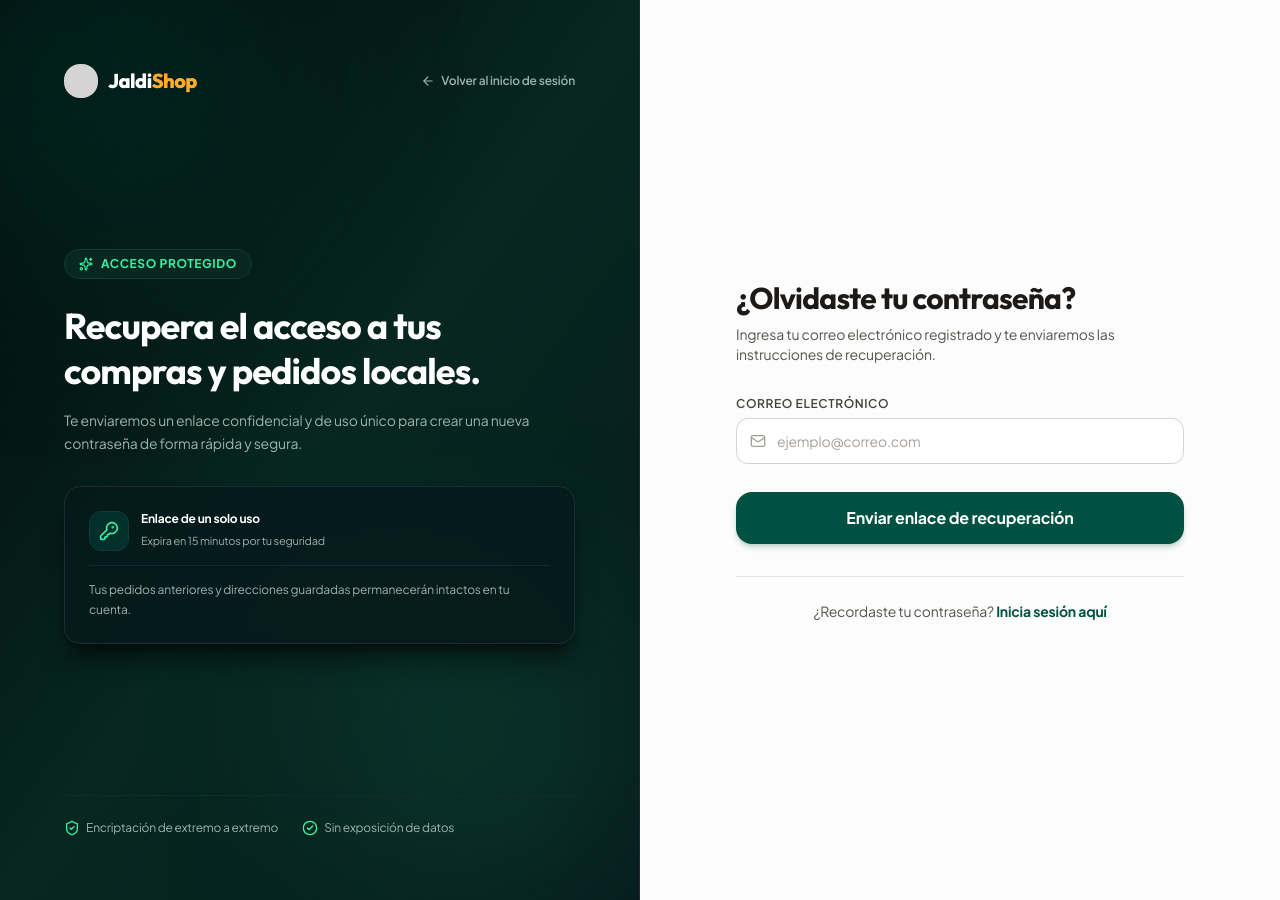
Scenario: ForgotPasswordForm Component › submits valid email, transitions to generic anti-enumeration success view
The width and height of the screenshot is (1280, 900).
Type "cliente@ejemplo.pe" into the field labelled "Correo electrónico". click: (960, 440)
box: [736,418,1184,464]
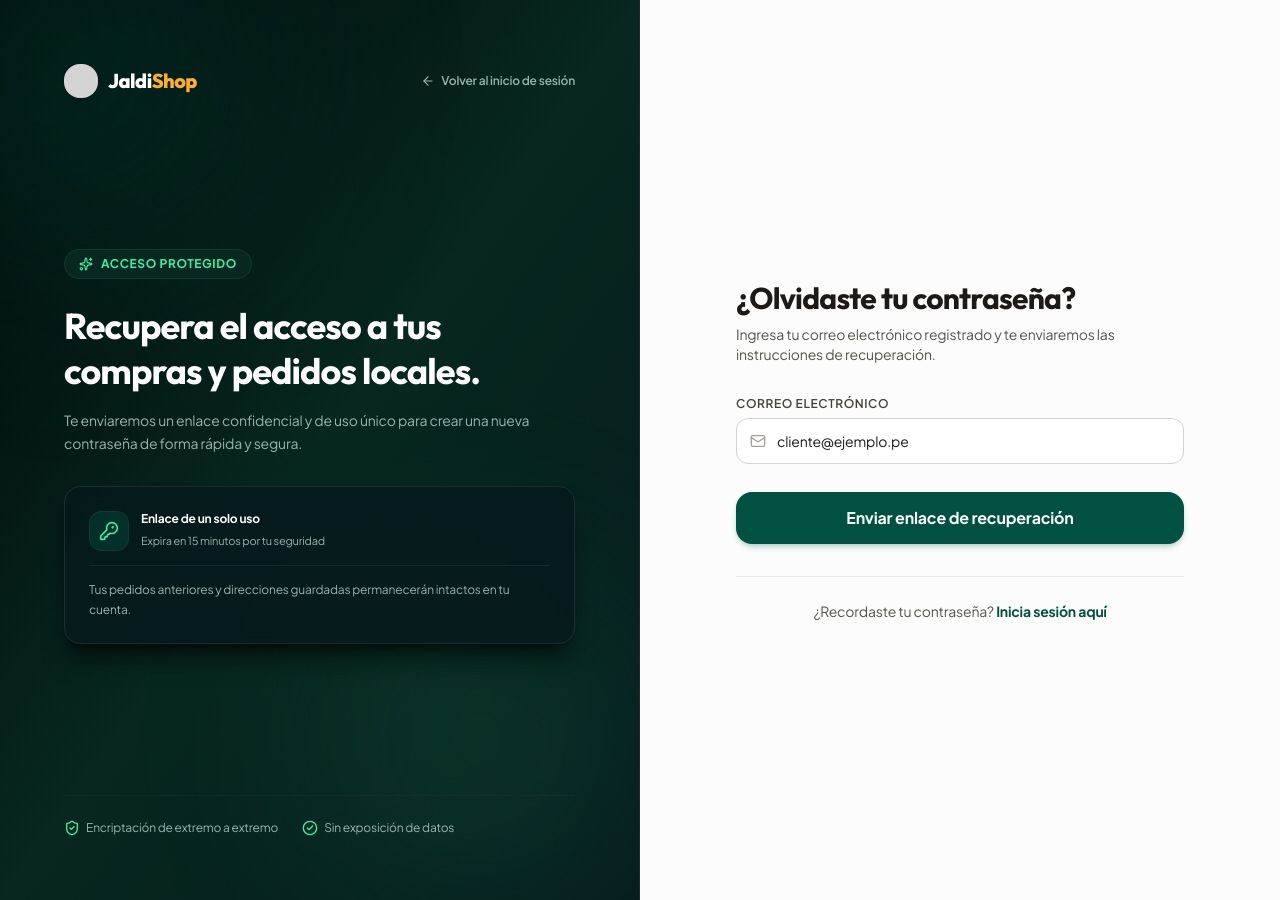
Click the button "Enviar enlace de recuperación". click: (960, 518)
box: [736,492,1184,544]
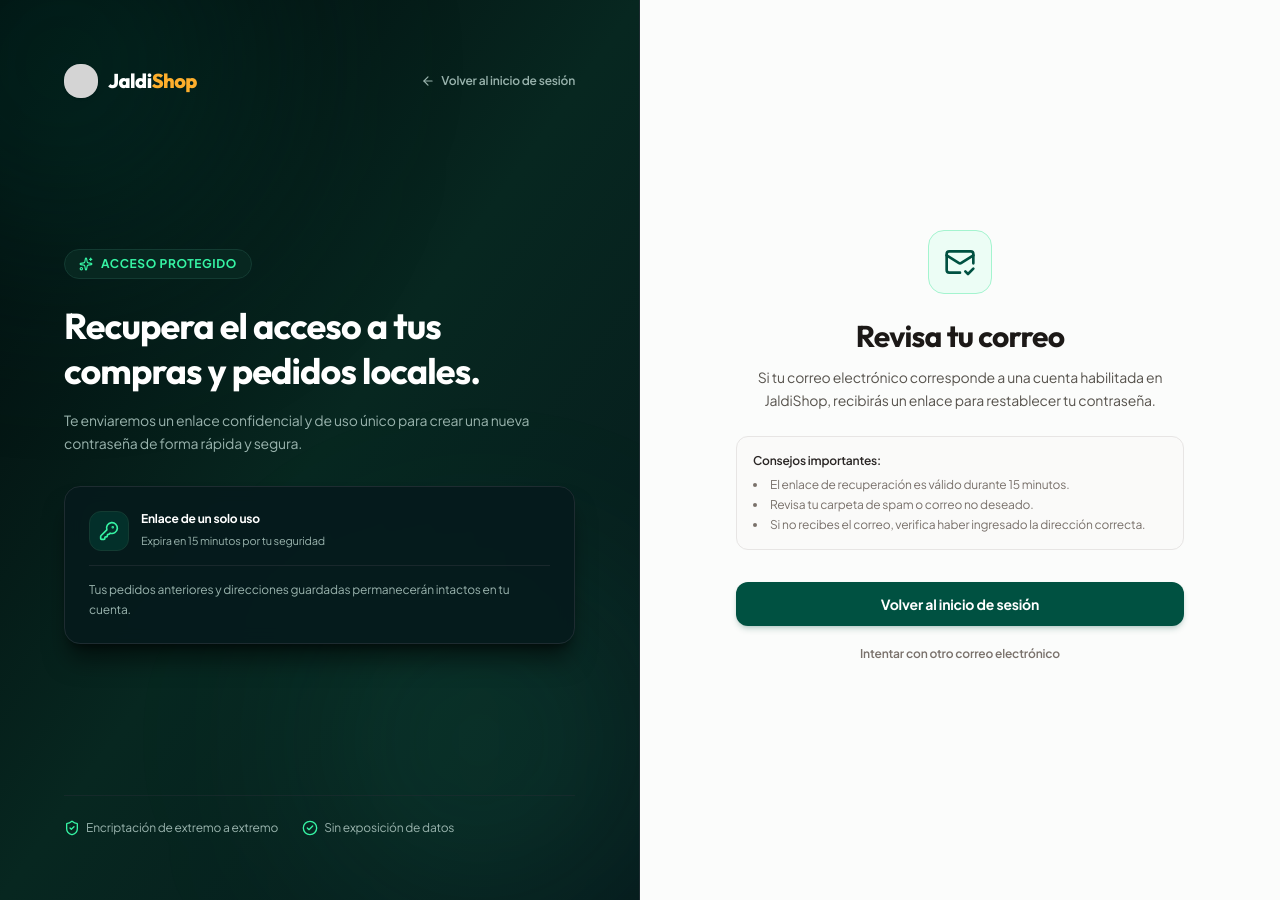
Expected: the 1st link "Volver al inicio de sesión" is shown, [421,73,575,89]
Now the element with test id "forgot-password-success" is shown, box [736,230,1184,670]
Now the heading "Revisa tu correo" is shown, box [856,317,1064,355]
